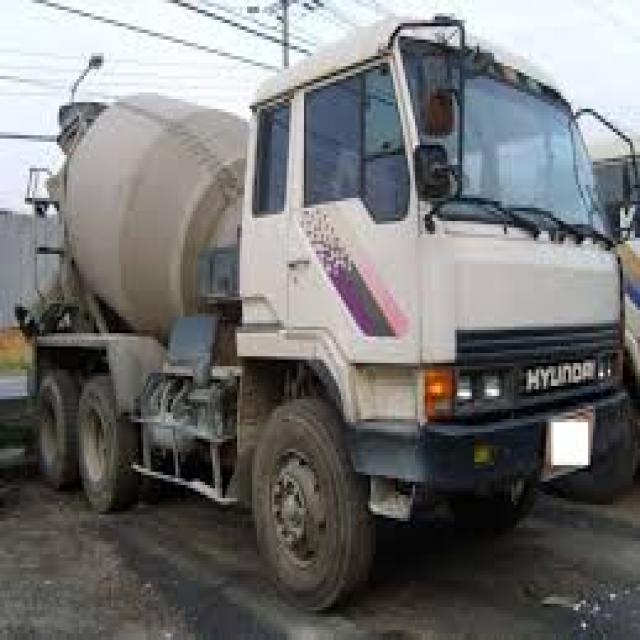Mixer Truck: (15, 11, 627, 608)
